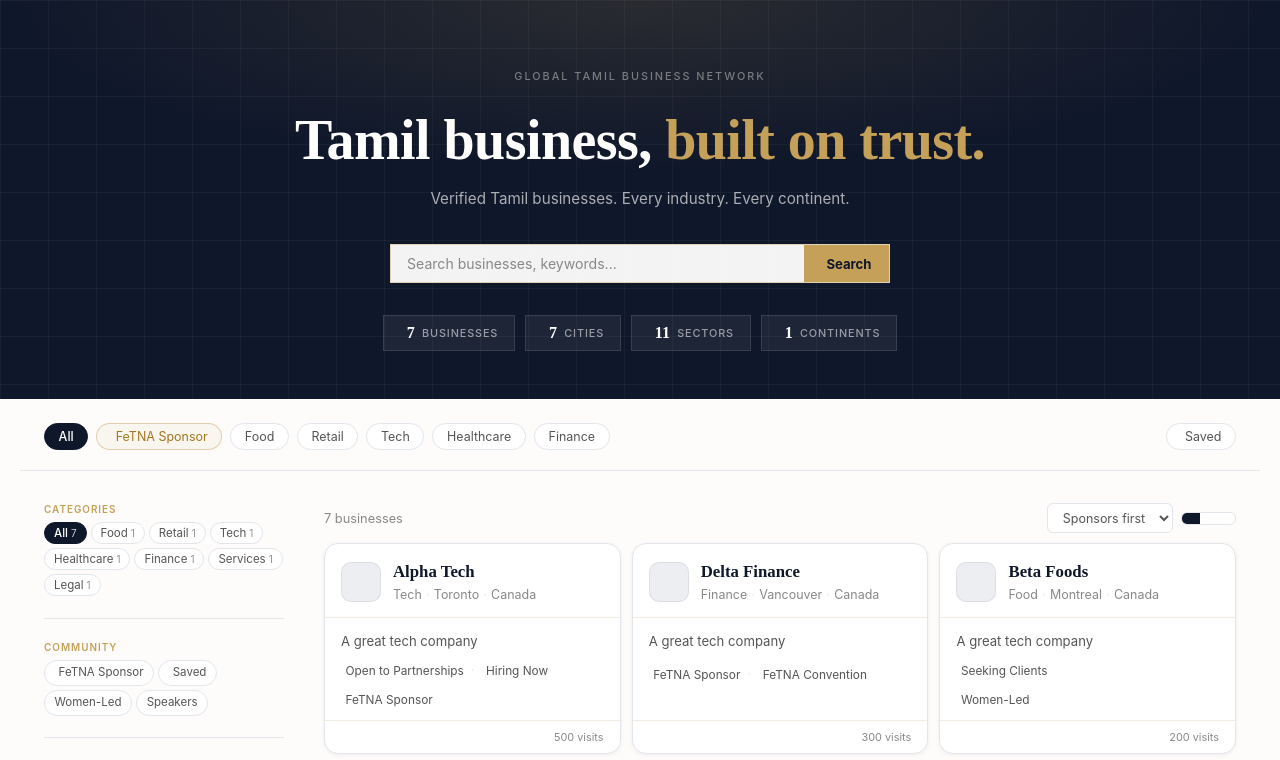
it: DirectoryClient — category filter › shows all businesses when All category is clicked
Click the text "Tech".
click(233, 533)  # box [220,526,246,540]
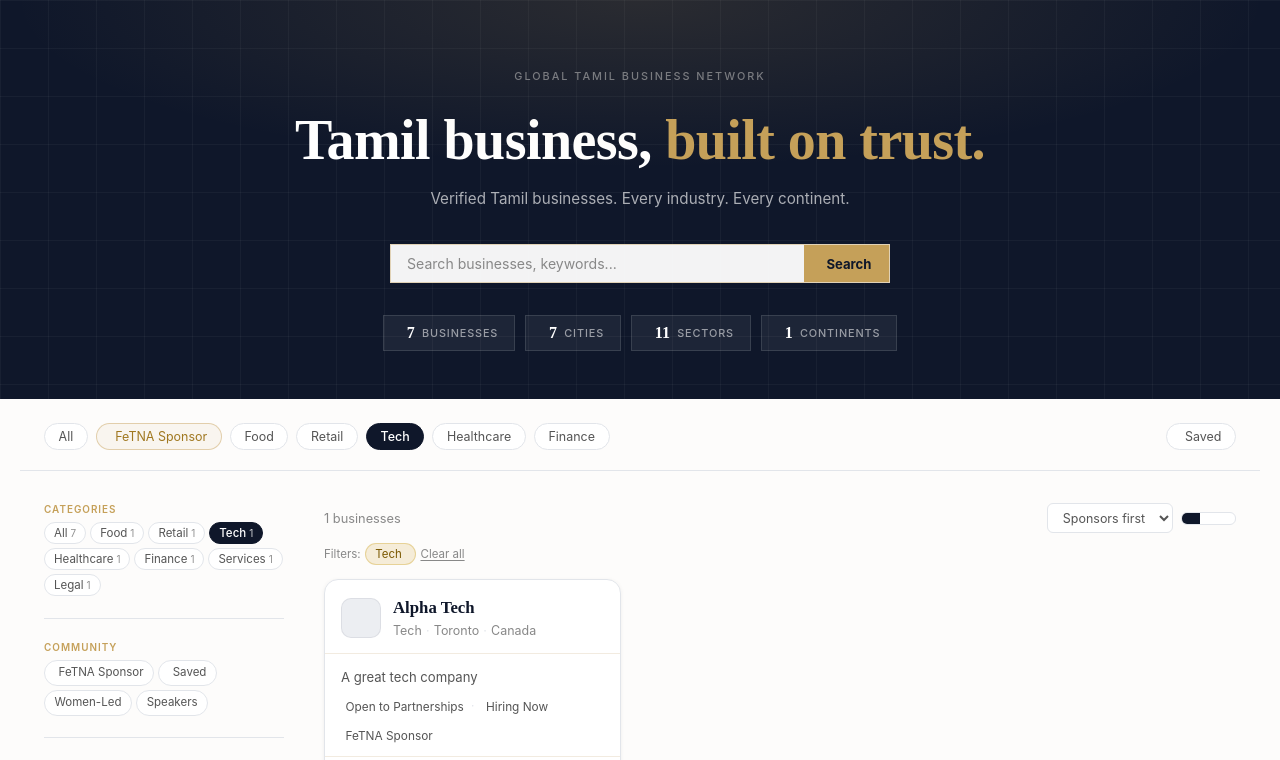
Click the text "All".
click(61, 533)  # box [54,526,68,540]
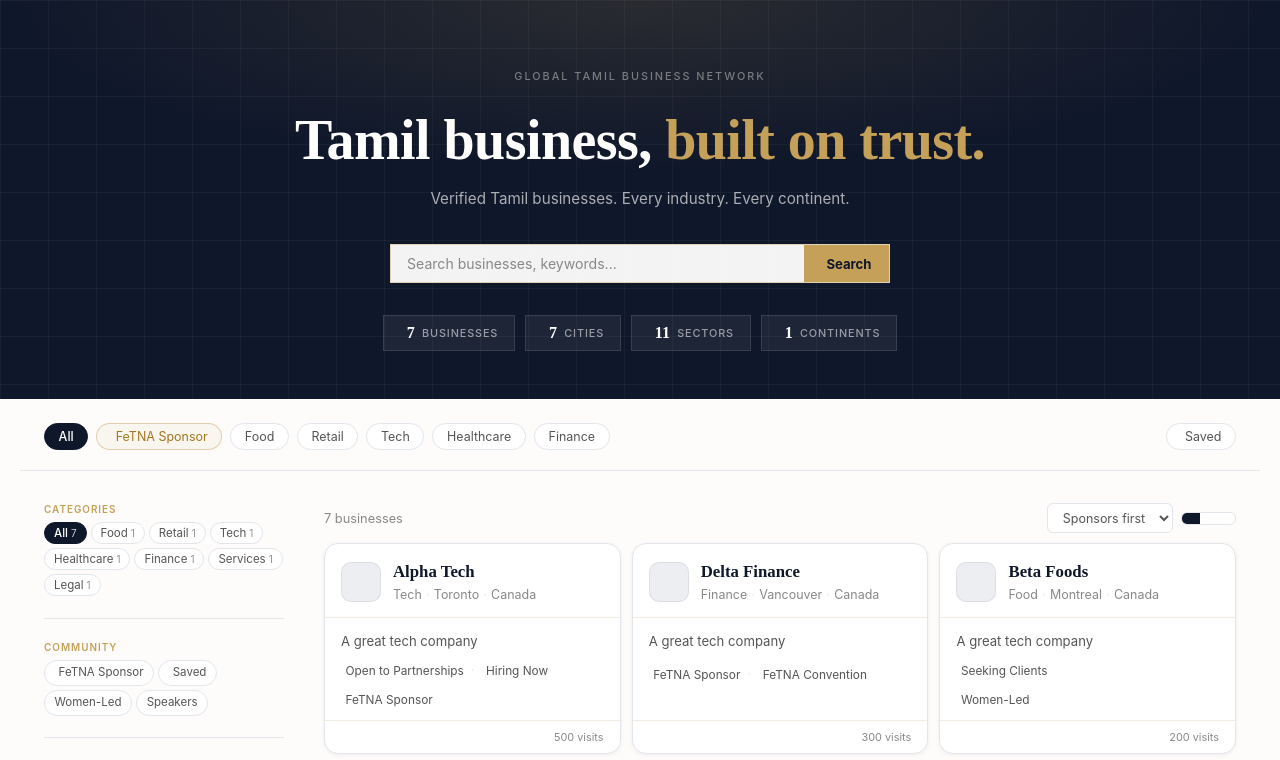
Result: the text "7 businesses" is shown at [324,511,403,526]
